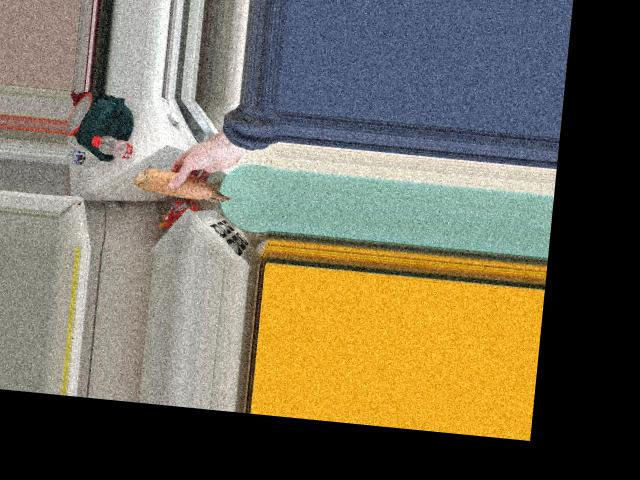sweet_potato: (136, 166, 231, 210)
